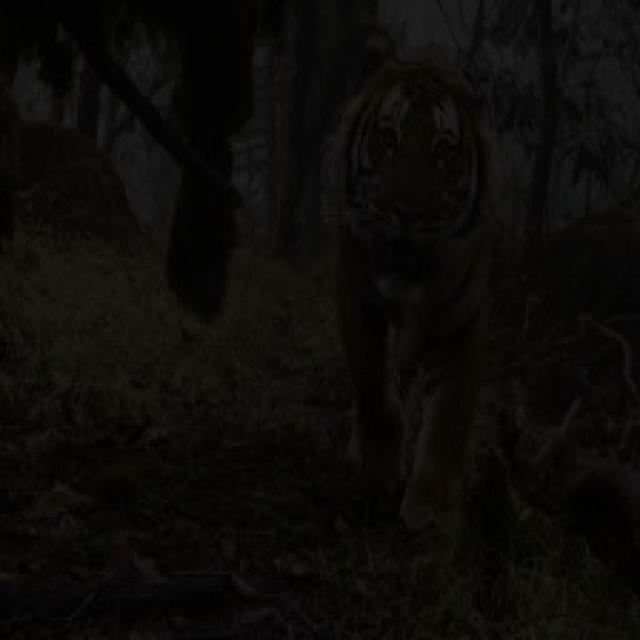animal: (297, 34, 555, 551)
